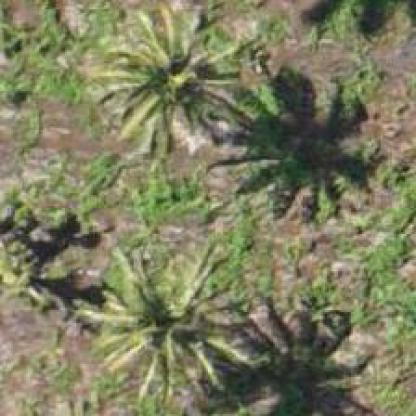coconut tree: (77, 234, 245, 404), (90, 2, 246, 156)
